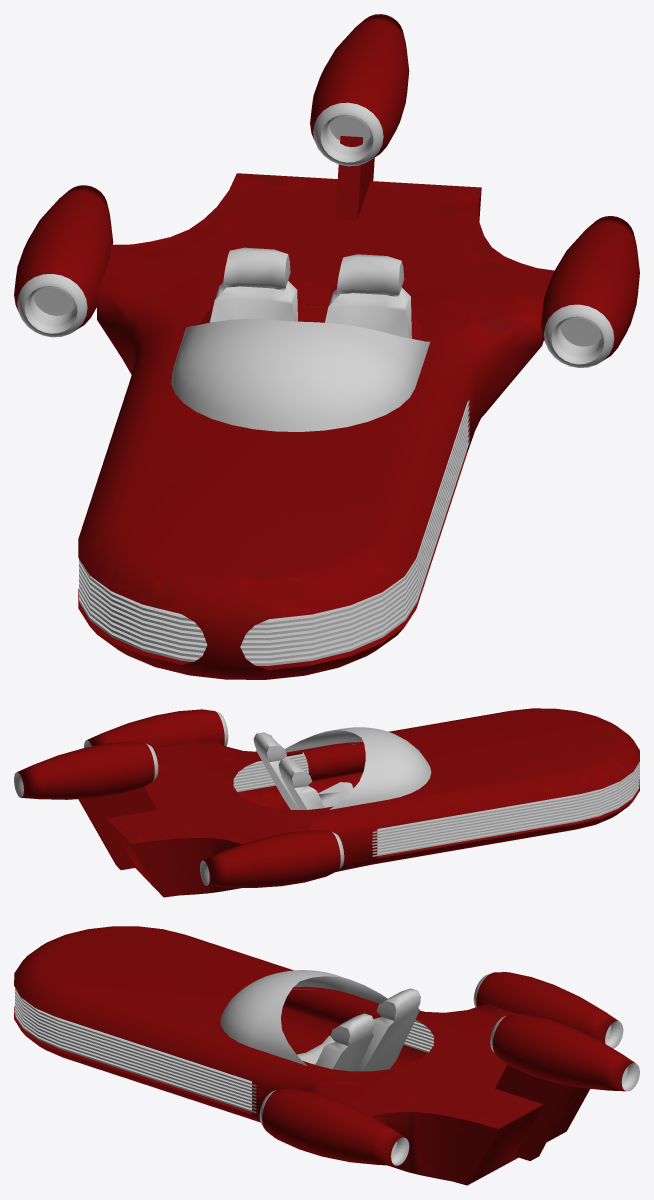
File: Luke Skywalkers landspeeder.obj
3 renders of one model, top to bottom at view 1: azimuth 30°, elevation 25°; view 2: azimuth 150°, elevation 25°; view 3: azimuth 270°, elevation 25°, orthographic. The views are drawn at different scales.
Visible parts, largest first — view 1: LL_Body, Object02, LL_Grill, LL_Seats, RED_LANDSPEEDER0, RED_LANDSPEEDER1, RED_LANDSPEEDER2, METAL_LIGHT1, METAL_LIGHT2, METAL_LIGHT0, Object01; view 2: LL_Body, LL_Grill, RED_LANDSPEEDER0, RED_LANDSPEEDER2, Object02, RED_LANDSPEEDER1, LL_Seats, Object01, METAL_LIGHT0, METAL_LIGHT2; view 3: LL_Body, LL_Grill, RED_LANDSPEEDER1, RED_LANDSPEEDER0, Object02, LL_Seats, RED_LANDSPEEDER2, Object01, METAL_LIGHT1, METAL_LIGHT0, METAL_LIGHT2.
Boxes of the visible parts, x1,y1,x2,y2 form: LL_Body: (78,173,554,679); Object02: (171,319,430,431); LL_Grill: (79,400,469,665); LL_Seats: (210,247,411,338); RED_LANDSPEEDER0: (310,14,409,157); RED_LANDSPEEDER1: (540,216,639,359); RED_LANDSPEEDER2: (14,185,113,328); METAL_LIGHT1: (544,304,614,367); METAL_LIGHT2: (17,274,87,337); METAL_LIGHT0: (313,102,383,166); Object01: (330,136,374,299); LL_Body: (107,708,639,897); LL_Grill: (233,753,639,856); RED_LANDSPEEDER0: (17,741,154,799); RED_LANDSPEEDER2: (203,830,340,887); Object02: (285,727,431,809); RED_LANDSPEEDER1: (86,709,224,750); LL_Seats: (253,732,353,809); Object01: (78,787,156,870); METAL_LIGHT0: (14,743,158,797); METAL_LIGHT2: (200,832,344,885); LL_Body: (14,926,589,1185); LL_Grill: (15,988,434,1113); RED_LANDSPEEDER1: (262,1088,404,1165); RED_LANDSPEEDER0: (492,1014,635,1091); Object02: (220,970,387,1065); LL_Seats: (297,988,420,1071); RED_LANDSPEEDER2: (476,972,618,1043); Object01: (495,1065,574,1160); METAL_LIGHT1: (259,1090,409,1165); METAL_LIGHT0: (490,1016,639,1091); METAL_LIGHT2: (473,974,623,1048).
Bounding box in the file's own units: 149 × 42.84 × 167.
